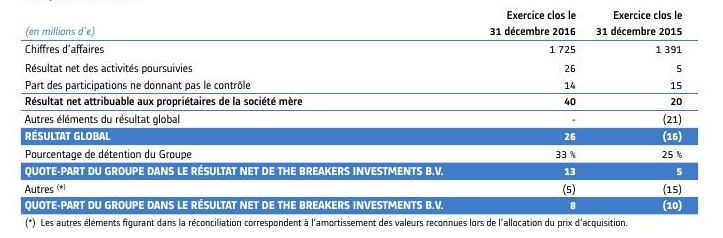table: (0, 0, 723, 238)
